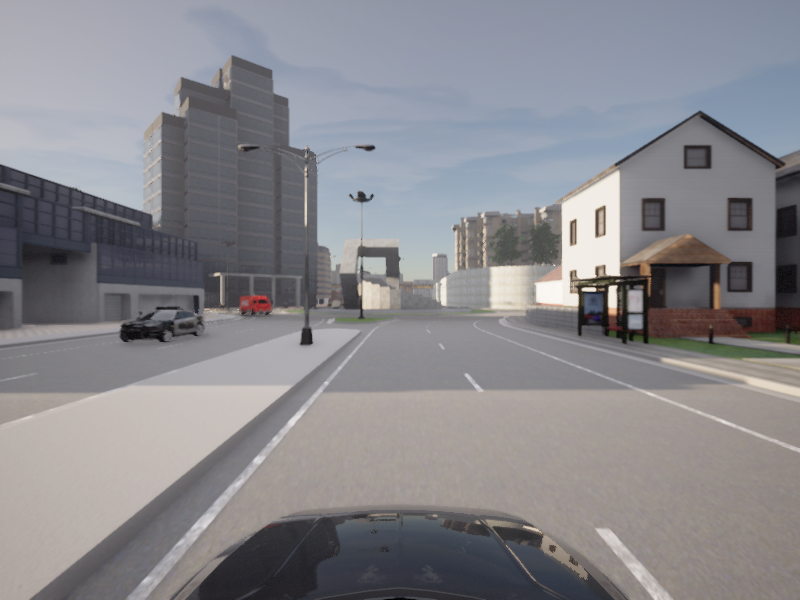vehicle: (108, 305, 209, 346)
